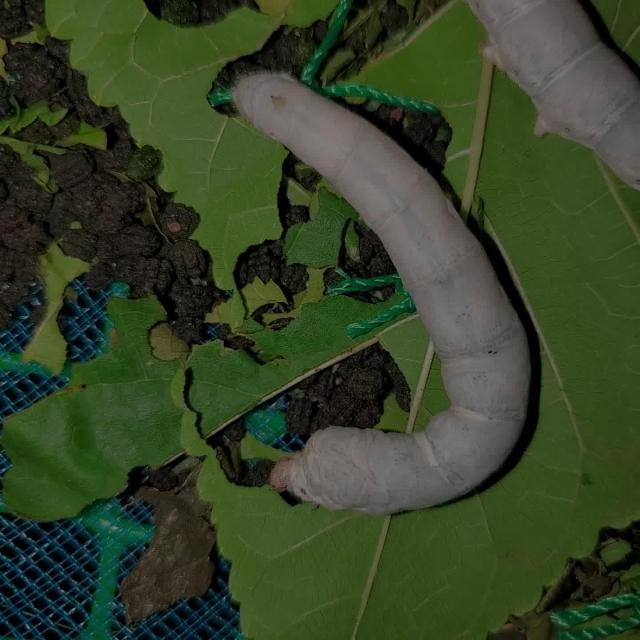Healthy: (207, 64, 541, 528)
